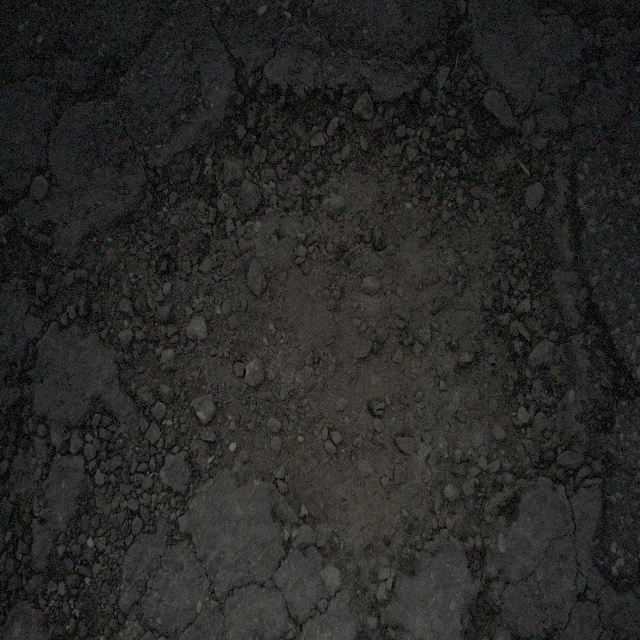pothole: (101, 28, 604, 564)
